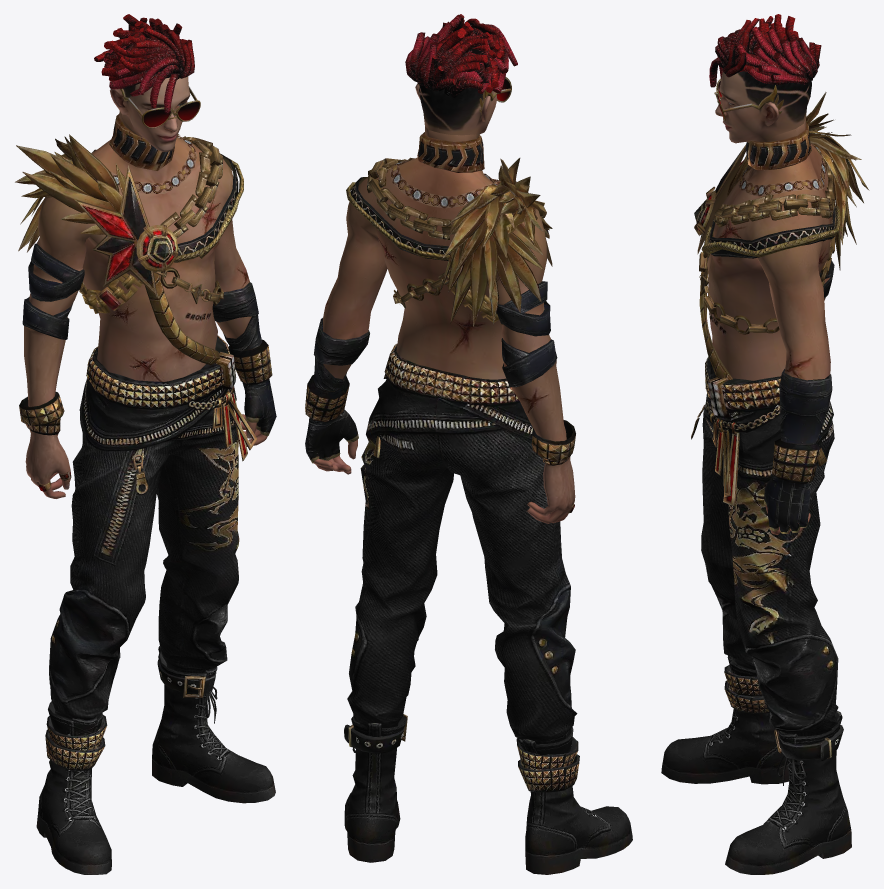
File: wizard-transformed.glb
3 views of the same model, side by side, from view 1: azimuth 30°, elevation 25°; view 2: azimuth 150°, elevation 25°; view 3: azimuth 270°, elevation 25° (orthographic). The views are drawn at different scales.
Visible parts, largest first — view 1: Mesh_0016.rip_mat0.138_0, Mesh_0017.rip_mat0.139_0, Mesh_0014.rip_mat0.136_0, Mesh_0015.rip_mat0.137_0, Mesh_0025.rip_mat0.147_0, Mesh_0045.rip_mat0.167_0; view 2: Mesh_0016.rip_mat0.138_0, Mesh_0014.rip_mat0.136_0, Mesh_0017.rip_mat0.139_0, Mesh_0015.rip_mat0.137_0, Mesh_0025.rip_mat0.147_0; view 3: Mesh_0016.rip_mat0.138_0, Mesh_0014.rip_mat0.136_0, Mesh_0017.rip_mat0.139_0, Mesh_0015.rip_mat0.137_0, Mesh_0025.rip_mat0.147_0, Mesh_0018.rip_mat0.140_0.
Boxes of the visible parts, x1,y1,x2,y2 form: Mesh_0016.rip_mat0.138_0: [49, 335, 257, 720]; Mesh_0017.rip_mat0.139_0: [15, 114, 276, 491]; Mesh_0014.rip_mat0.136_0: [24, 37, 267, 498]; Mesh_0015.rip_mat0.137_0: [36, 646, 275, 874]; Mesh_0025.rip_mat0.147_0: [94, 14, 194, 113]; Mesh_0045.rip_mat0.167_0: [143, 102, 199, 127]; Mesh_0016.rip_mat0.138_0: [347, 344, 577, 743]; Mesh_0014.rip_mat0.136_0: [313, 52, 575, 523]; Mesh_0017.rip_mat0.139_0: [305, 132, 575, 513]; Mesh_0015.rip_mat0.137_0: [344, 714, 632, 874]; Mesh_0025.rip_mat0.147_0: [405, 14, 517, 98]; Mesh_0016.rip_mat0.138_0: [691, 356, 838, 736]; Mesh_0014.rip_mat0.136_0: [707, 47, 832, 534]; Mesh_0017.rip_mat0.139_0: [694, 92, 869, 533]; Mesh_0015.rip_mat0.137_0: [661, 655, 851, 874]; Mesh_0025.rip_mat0.147_0: [709, 14, 821, 87]; Mesh_0018.rip_mat0.140_0: [714, 79, 783, 120].
Size of the model in its own units: 0.3052 by 0.901 by 0.2122.
Materials: 7 (7 with a texture image).
